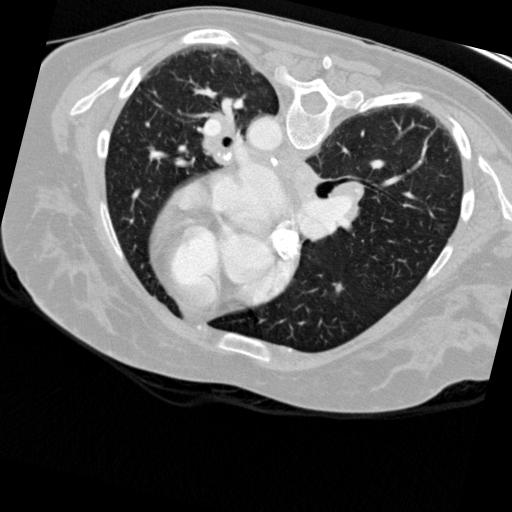nodule: (332, 282, 347, 297)
